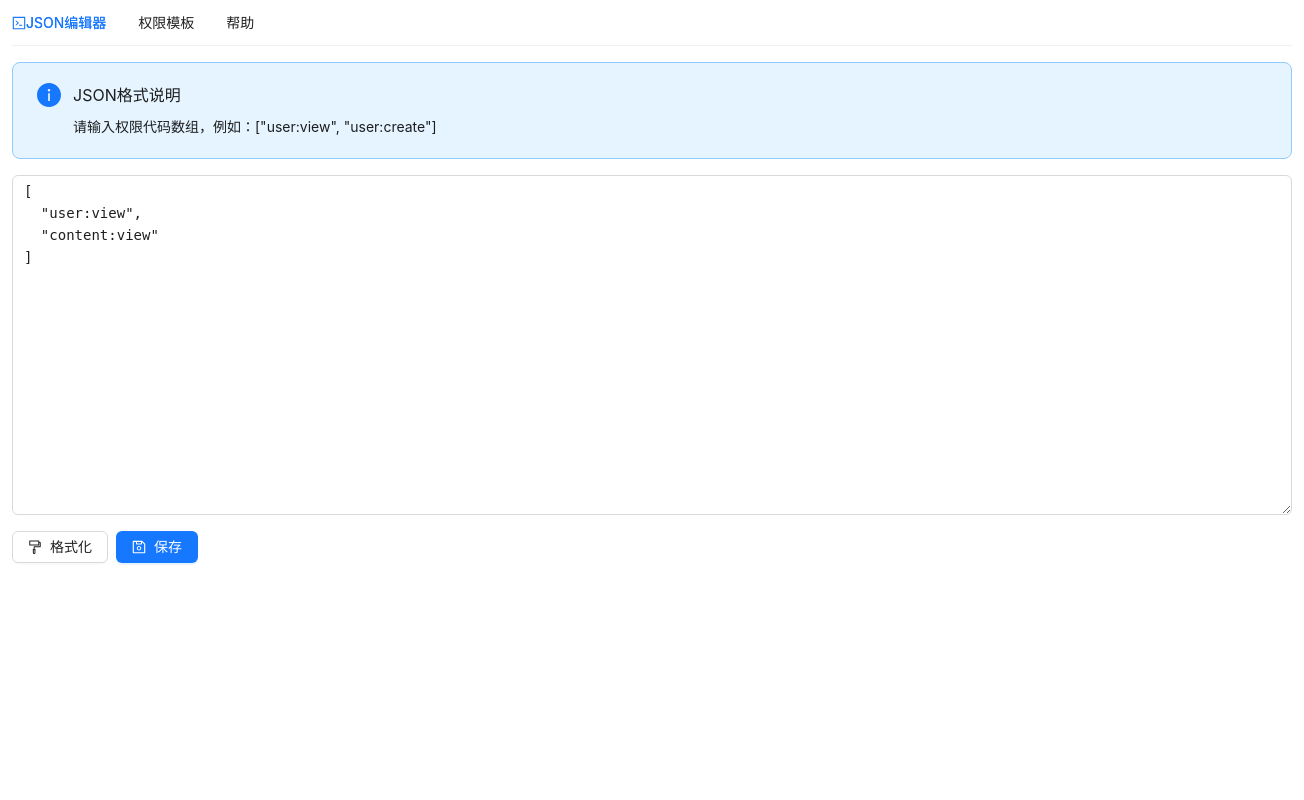
Test case: PermissionConfigEditor › should render template buttons
Click the tab "权限模板". click: point(166, 23)
box: [138, 12, 194, 34]
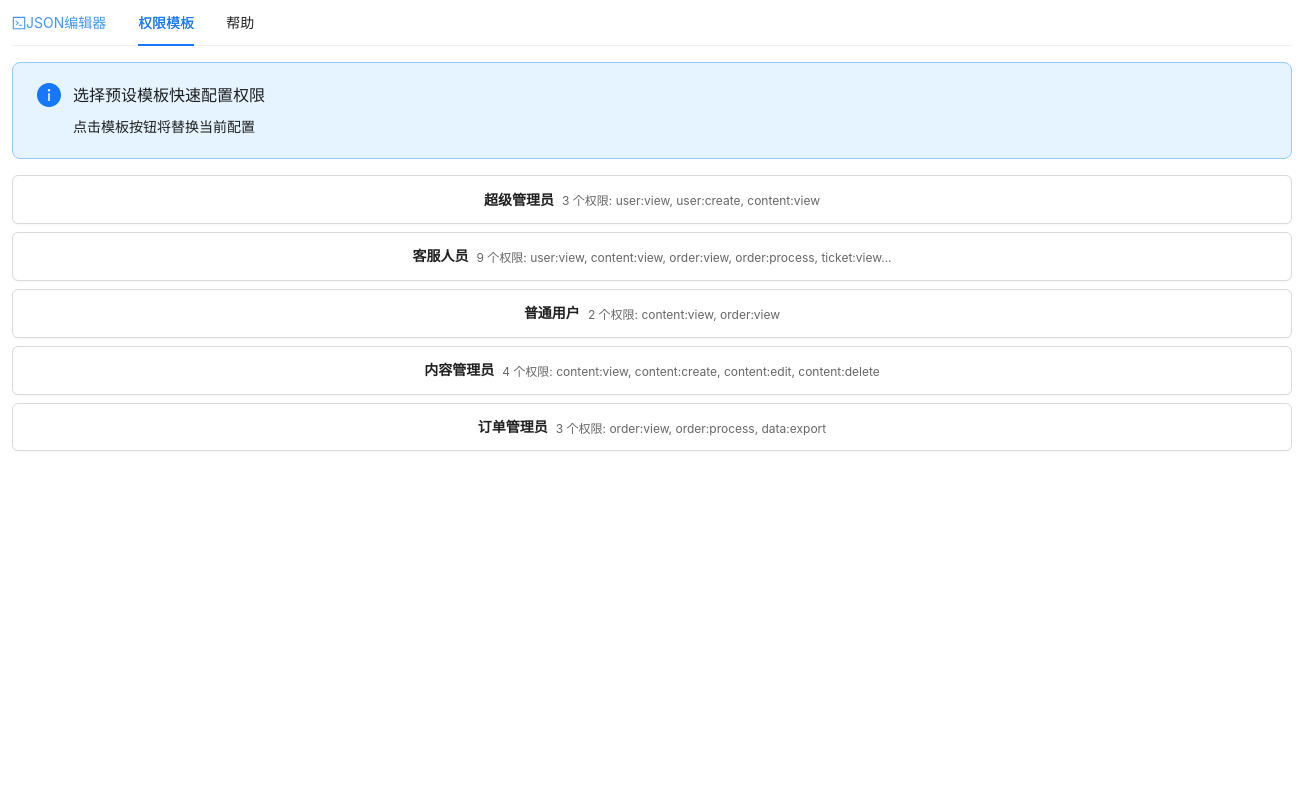
Expected: the text "超级管理员" is shown, [484, 189, 554, 211]
Expected: the text "客服人员" is shown, [412, 245, 468, 267]
Expected: the text "普通用户" is shown, [524, 302, 580, 324]
